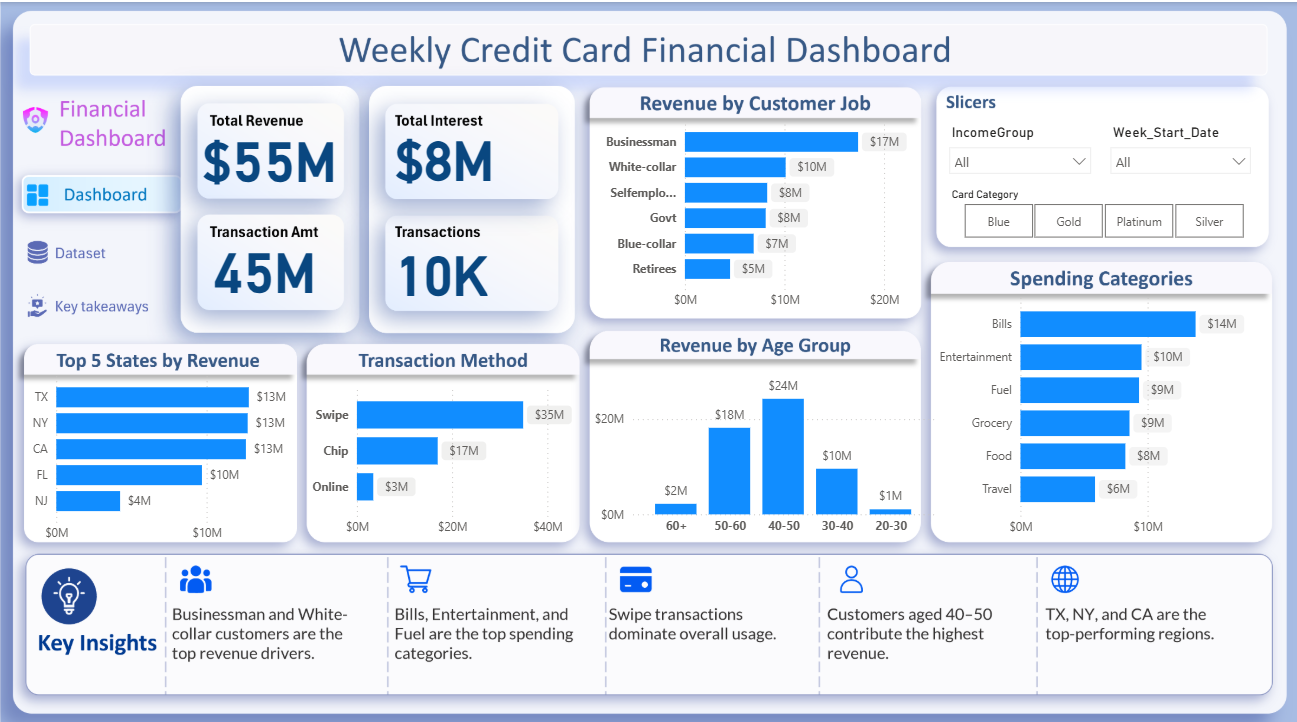

The dashboard page shown, as its layout file describes it:
{"tool":"powerbi","page":{"name":"Dashboard","canvas":[1366,768],"ordinal":0},"visuals":[{"type":"cardVisual","fields":{"Data":["Sum(public cc_detail.Revenue)"]},"box":[202.1,117.2,199.2,93.7],"z":0},{"type":"cardVisual","fields":{"Data":["Sum(public cc_detail.Total_Trans_Amt)"]},"box":[213.8,232.8,215.3,93.7],"z":1000},{"type":"cardVisual","fields":{"Data":["Sum(public cc_detail.Interest_Earned)"]},"box":[401.2,111.3,235.8,104],"z":2000},{"type":"cardVisual","fields":{"Data":["public cc_detail.Transactions"]},"box":[401.2,235.8,215.3,90.8],"z":3000},{"type":"slicer","fields":{"Values":["public cc_detail.Week_Start_Date"]},"box":[1159.8,121.5,165.5,76.1],"z":4000},{"type":"slicer","fields":{"Values":["public cust_detail.IncomeGroup"]},"box":[992.9,121.5,166.9,70.3],"z":5000},{"type":"slicer","fields":{"Values":["public cc_detail.Card_Category"]},"box":[992.9,187.4,338.3,63],"z":6000},{"type":"clusteredBarChart","fields":{"Category":["public cust_detail.Customer_Job"],"Y":["Sum(public cc_detail.Revenue)"]},"box":[631.2,111.3,345.6,215.3],"z":7000},{"type":"clusteredBarChart","fields":{"Category":["public cc_detail.Exp Type"],"Y":["Sum(public cc_detail.Revenue)"]},"box":[980,292.9,345.7,267.1],"z":8000},{"type":"clusteredColumnChart","fields":{"Category":["public cust_detail.AgeGroup"],"Y":["Sum(public cc_detail.Revenue)"]},"box":[631.4,368.6,361.4,191.4],"z":9000},{"type":"clusteredBarChart","fields":{"Category":["public cc_detail.Use Chip"],"Y":["Sum(public cc_detail.Revenue)"]},"box":[340,384.3,291.4,175.7],"z":10000},{"type":"clusteredBarChart","fields":{"Category":["public cust_detail.state_cd"],"Y":["Sum(public cc_detail.Revenue)"]},"box":[48.7,375,290.8,192.1],"z":11000},{"type":"actionButton","box":[48.1,178.5,154.4,40.5],"z":12000},{"type":"actionButton","box":[48.1,240.5,154.4,40.5],"z":13000},{"type":"actionButton","box":[48.1,293.7,154.4,40.5],"z":14000}]}

Visuals, with their boxes on the page's 1366x768 design canvas (x1, y1, x2, y2). These are canvas units, not pixel positions in the 1297x722 screenshot, which may show the page scaled, cropped or inside an application window:
cardVisual - Sum(public cc_detail.Revenue): x1=202 y1=117 x2=401 y2=211
cardVisual - Sum(public cc_detail.Total_Trans_Amt): x1=214 y1=233 x2=429 y2=326
cardVisual - Sum(public cc_detail.Interest_Earned): x1=401 y1=111 x2=637 y2=215
cardVisual - public cc_detail.Transactions: x1=401 y1=236 x2=616 y2=327
slicer - public cc_detail.Week_Start_Date: x1=1160 y1=122 x2=1325 y2=198
slicer - public cust_detail.IncomeGroup: x1=993 y1=122 x2=1160 y2=192
slicer - public cc_detail.Card_Category: x1=993 y1=187 x2=1331 y2=250
clusteredBarChart - public cust_detail.Customer_Job x Sum(public cc_detail.Revenue): x1=631 y1=111 x2=977 y2=327
clusteredBarChart - public cc_detail.Exp Type x Sum(public cc_detail.Revenue): x1=980 y1=293 x2=1326 y2=560
clusteredColumnChart - public cust_detail.AgeGroup x Sum(public cc_detail.Revenue): x1=631 y1=369 x2=993 y2=560
clusteredBarChart - public cc_detail.Use Chip x Sum(public cc_detail.Revenue): x1=340 y1=384 x2=631 y2=560
clusteredBarChart - public cust_detail.state_cd x Sum(public cc_detail.Revenue): x1=49 y1=375 x2=340 y2=567
actionButton: x1=48 y1=178 x2=202 y2=219
actionButton: x1=48 y1=240 x2=202 y2=281
actionButton: x1=48 y1=294 x2=202 y2=334
